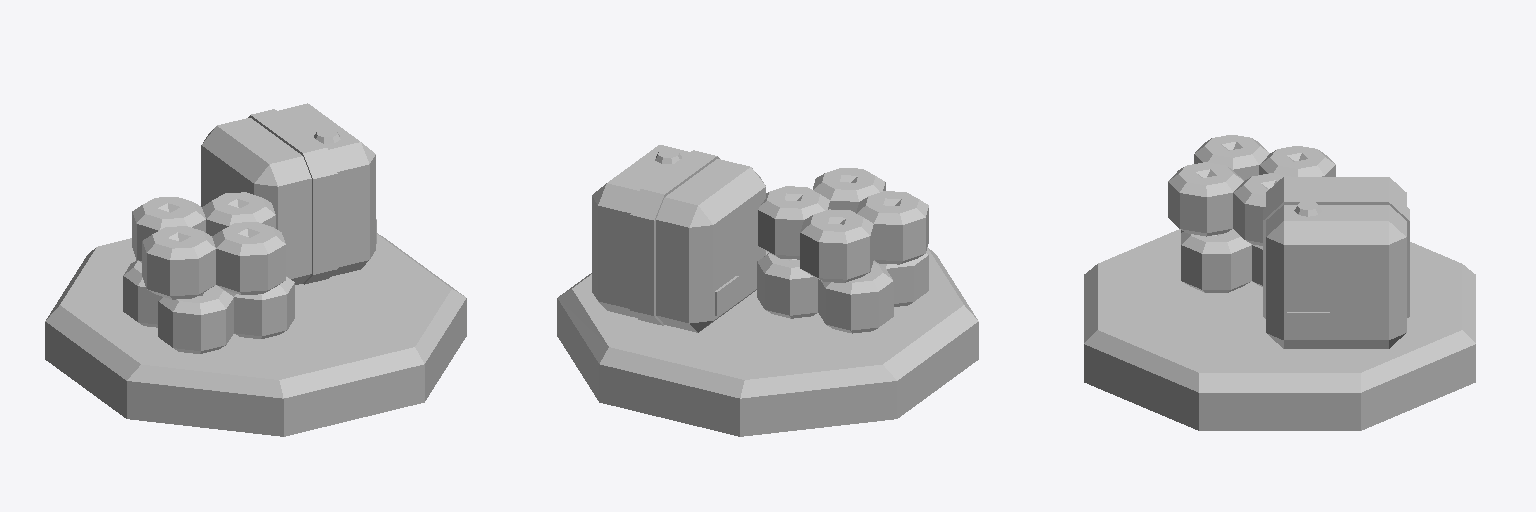
File: roofmodule_cargo_A.obj
3 renders of one model, left to right at view 1: azimuth 30°, elevation 25°; view 2: azimuth 150°, elevation 25°; view 3: azimuth 270°, elevation 25°, orthographic.
Visible parts, largest first — view 1: roofmodule_cargo_A_Cylinder.2714; view 2: roofmodule_cargo_A_Cylinder.2714; view 3: roofmodule_cargo_A_Cylinder.2714.
Part boxes in pixels (x1,y1,x2,y2): roofmodule_cargo_A_Cylinder.2714: (45,103,466,436); roofmodule_cargo_A_Cylinder.2714: (557,145,978,436); roofmodule_cargo_A_Cylinder.2714: (1084,135,1475,430).
Bounding box in the file's own units: 1.4 × 0.72 × 1.4.